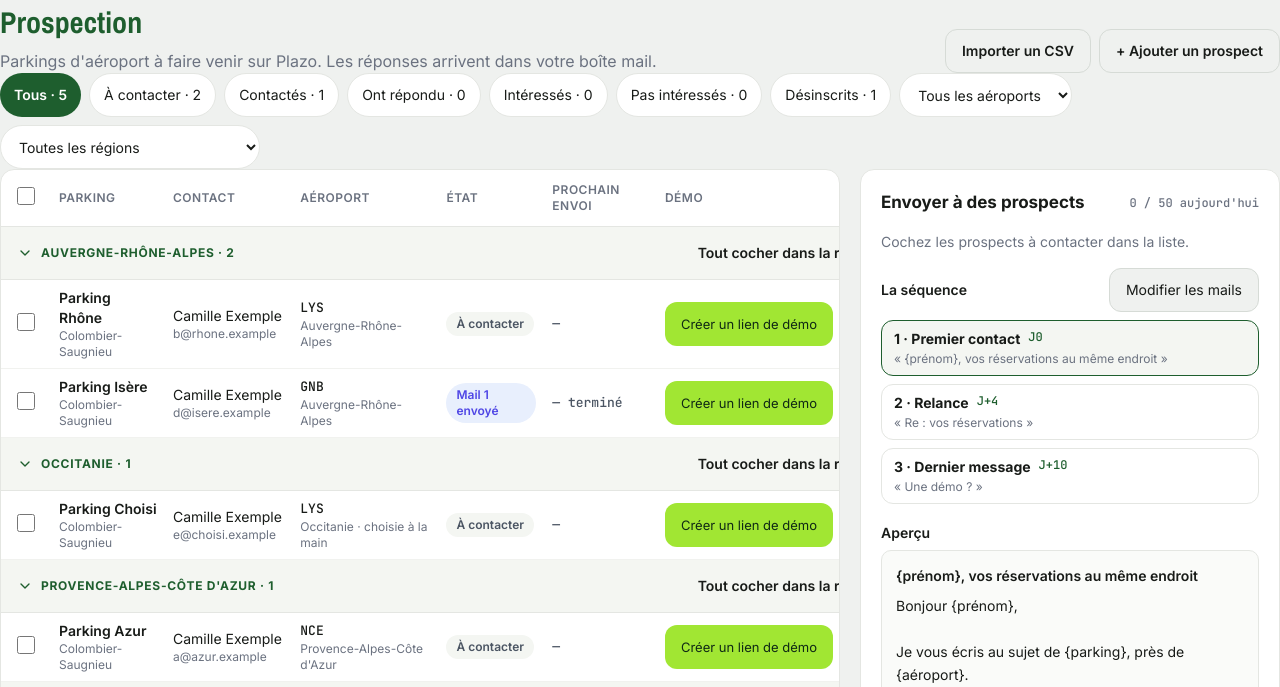
Test: Plateforme › Prospection › classement par région (19/10/2026) › un bloc se replie et se déplie ; la sélection reste
Expected: the text "Parking Rhône" is shown, [59,289,111,326]
Click the checkbox named "Choisir Parking Rhône". click: (26, 322)
box: [17,312,35,330]
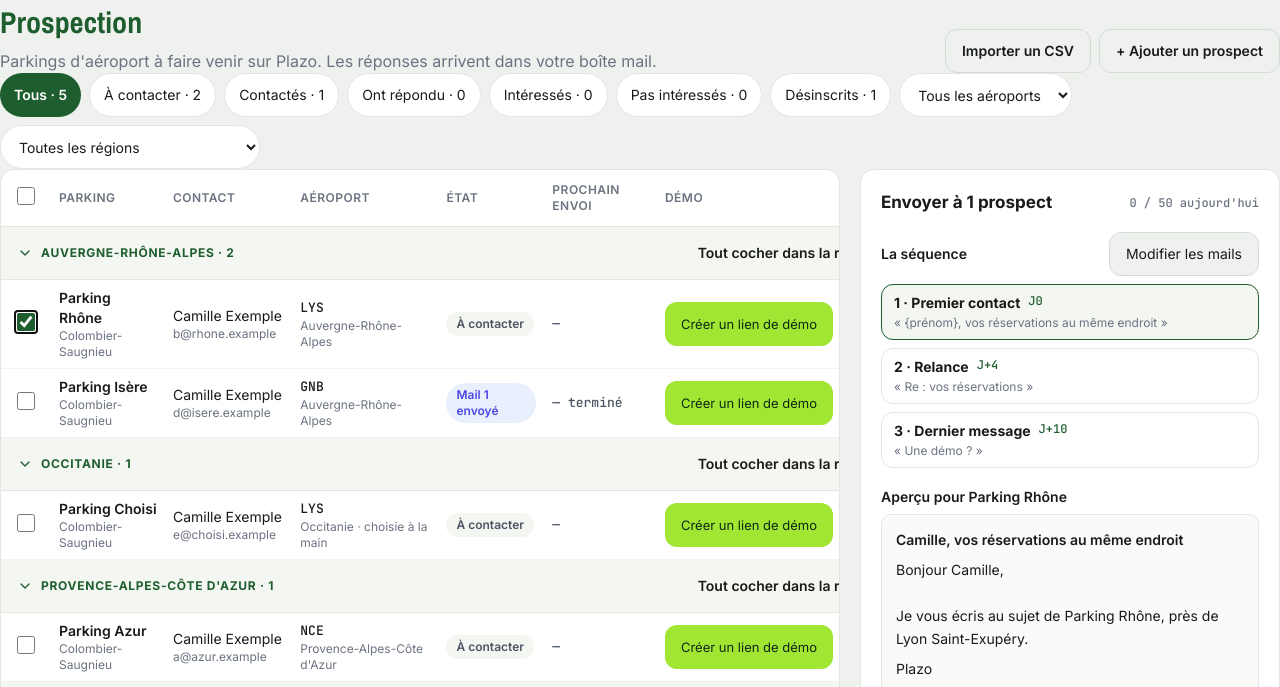
Click the button "Auvergne-Rhône-Alpes · 2". click: (126, 253)
box: [9,231,243,275]
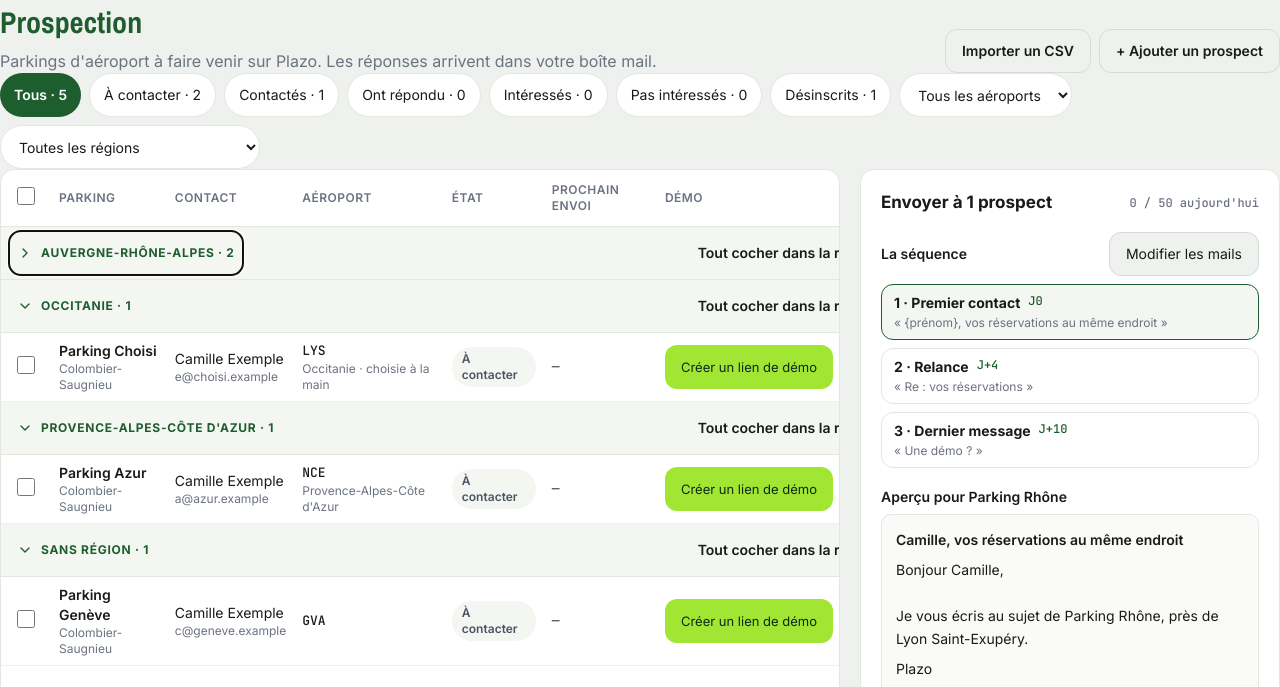
Expected: the button "Auvergne-Rhône-Alpes · 2" is collapsed
Click the button "Auvergne-Rhône-Alpes · 2". click: (126, 253)
box: [9,231,243,275]
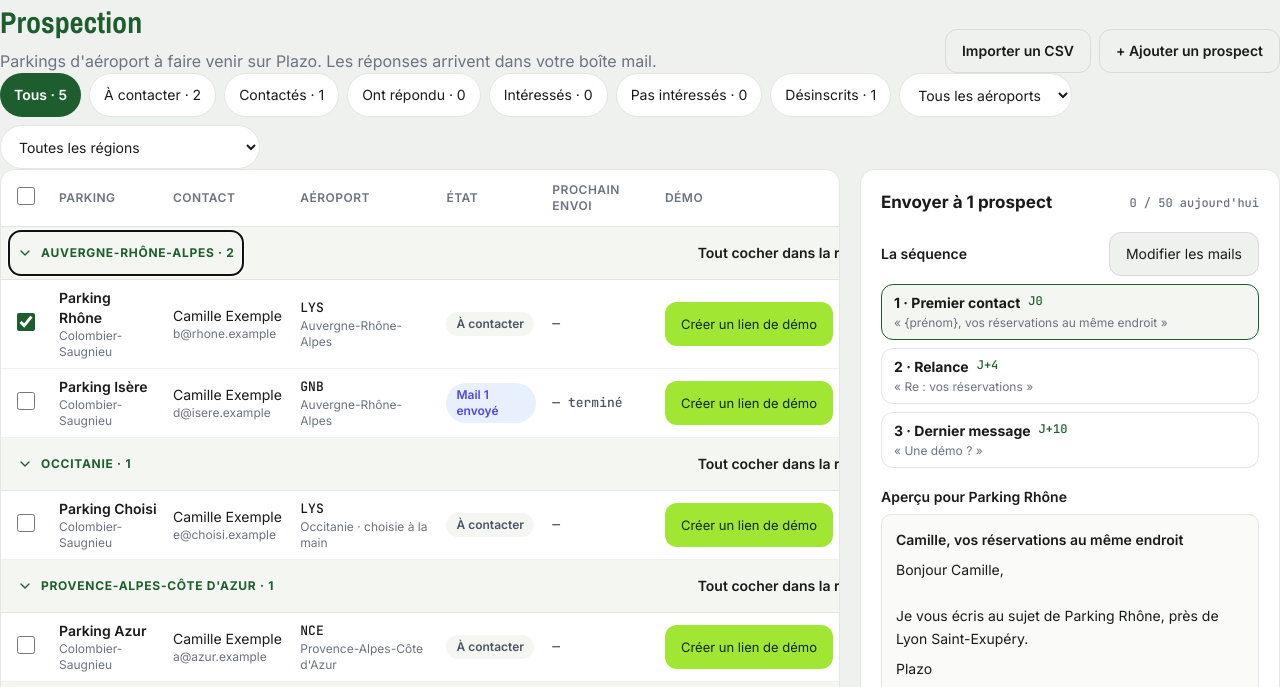
Expected: the checkbox named "Choisir Parking Rhône" is checked, [17,312,35,330]
